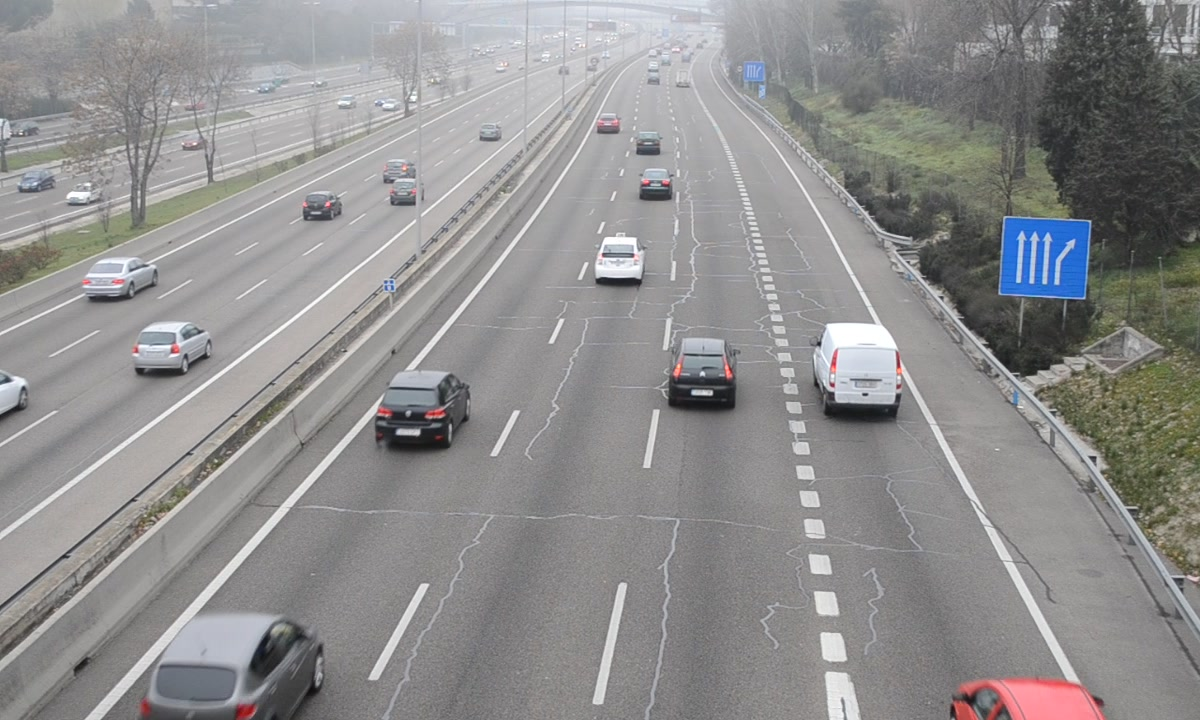car: (140, 615, 320, 720), (372, 374, 470, 446), (670, 337, 738, 405), (595, 235, 641, 283), (638, 168, 674, 203), (635, 129, 662, 155), (597, 111, 620, 136)
van: (815, 324, 902, 417)
